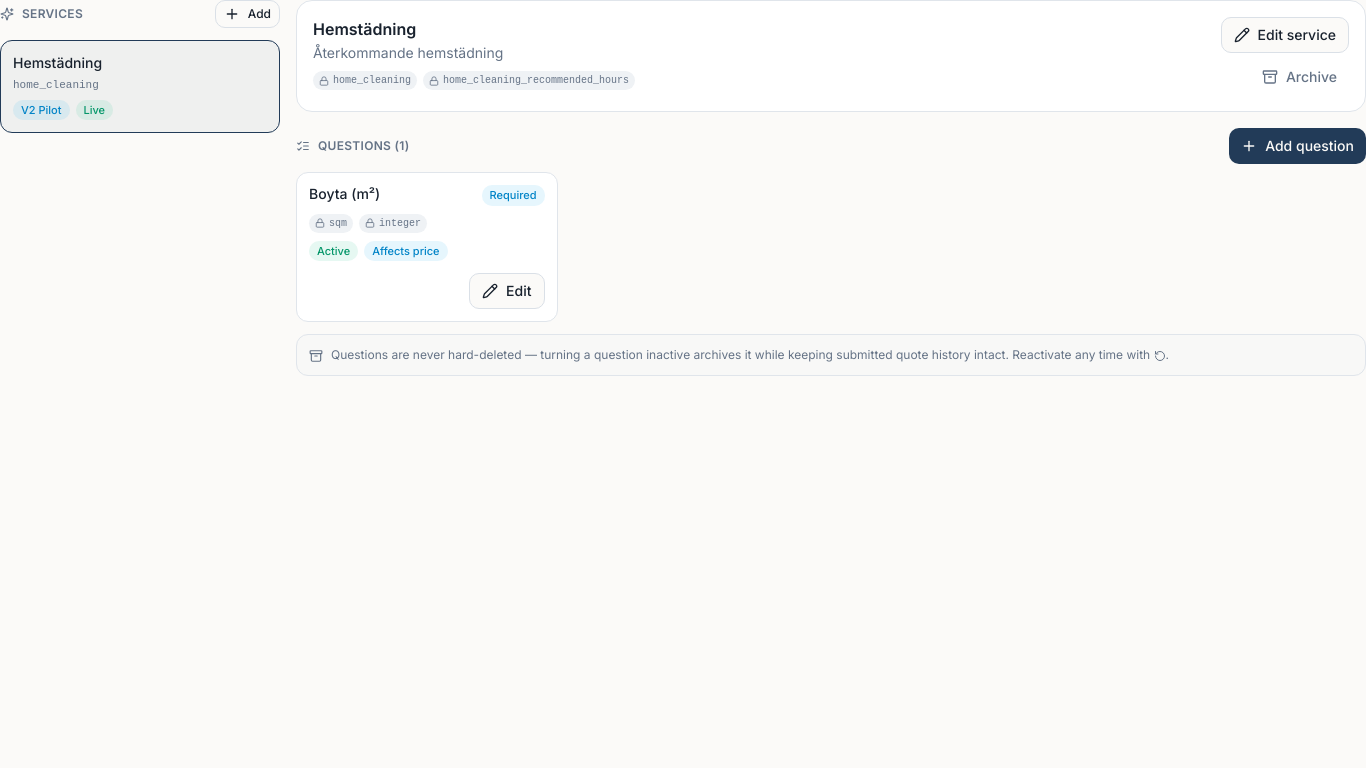
Test: ServicesFieldsEditor — GPM-3b add-service dialog (generic-only) › explains new services are hidden drafts that are not public until configured
This screenshot has width=1366, height=768.
Click the button "Add" at (247, 14), box [215,0,280,28]
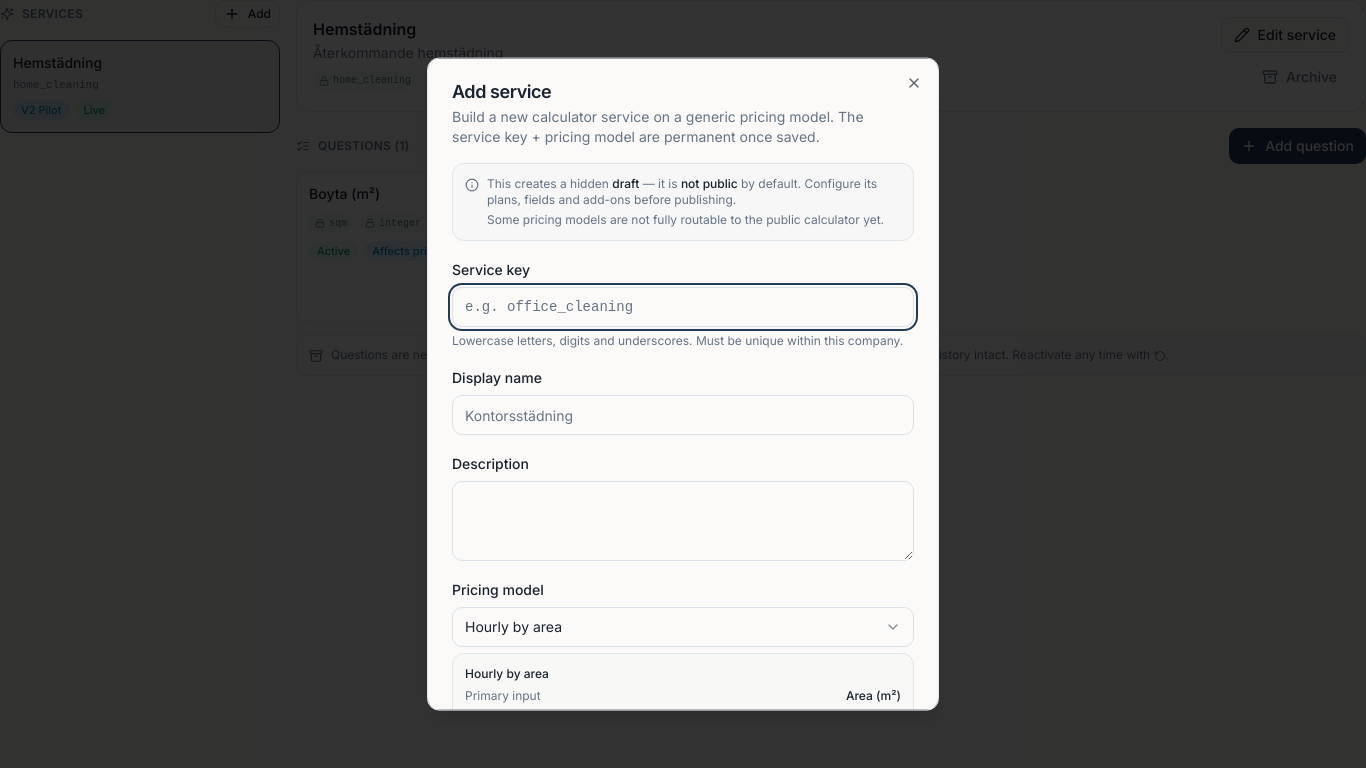
Now the text "hidden" is shown, box [487,176,612,191]
Now the text "not public" is shown, box [681,176,738,191]
Now the text "before publishing" is shown, box [487,176,877,207]
